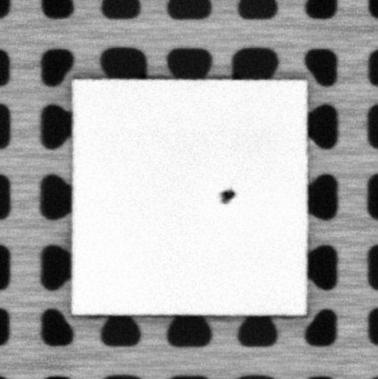DIE_INK: (219, 186, 236, 204)
